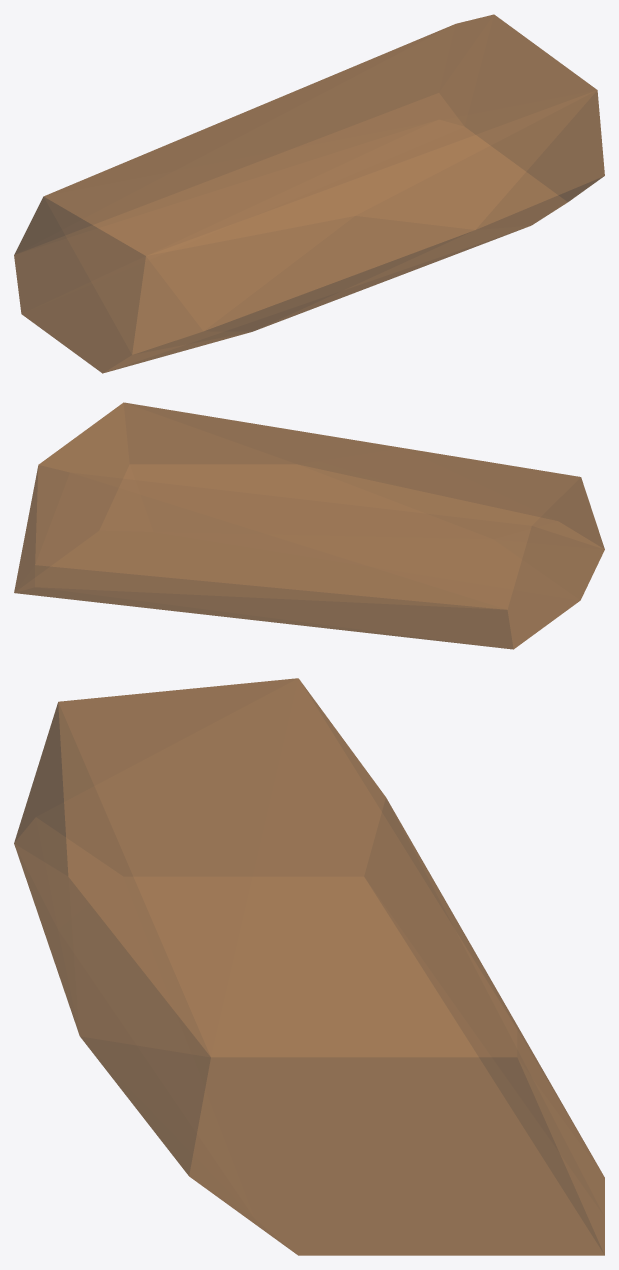
3 views of the same model, one above another, from view 1: azimuth 30°, elevation 25°; view 2: azimuth 150°, elevation 25°; view 3: azimuth 270°, elevation 25° (orthographic). The views are drawn at different scales.
Visible parts, largest first — view 1: Shape_IndexedFaceSet.030_Shape_IndexedFaceSet.1398; view 2: Shape_IndexedFaceSet.030_Shape_IndexedFaceSet.1398; view 3: Shape_IndexedFaceSet.030_Shape_IndexedFaceSet.1398.
Boxes of the visible parts, <box> form: Shape_IndexedFaceSet.030_Shape_IndexedFaceSet.1398: <box>14,14,604,373</box>; Shape_IndexedFaceSet.030_Shape_IndexedFaceSet.1398: <box>14,402,604,649</box>; Shape_IndexedFaceSet.030_Shape_IndexedFaceSet.1398: <box>14,678,604,1255</box>.
Size of the model in its own units: 0.1 by 0.0244 by 0.0658.
